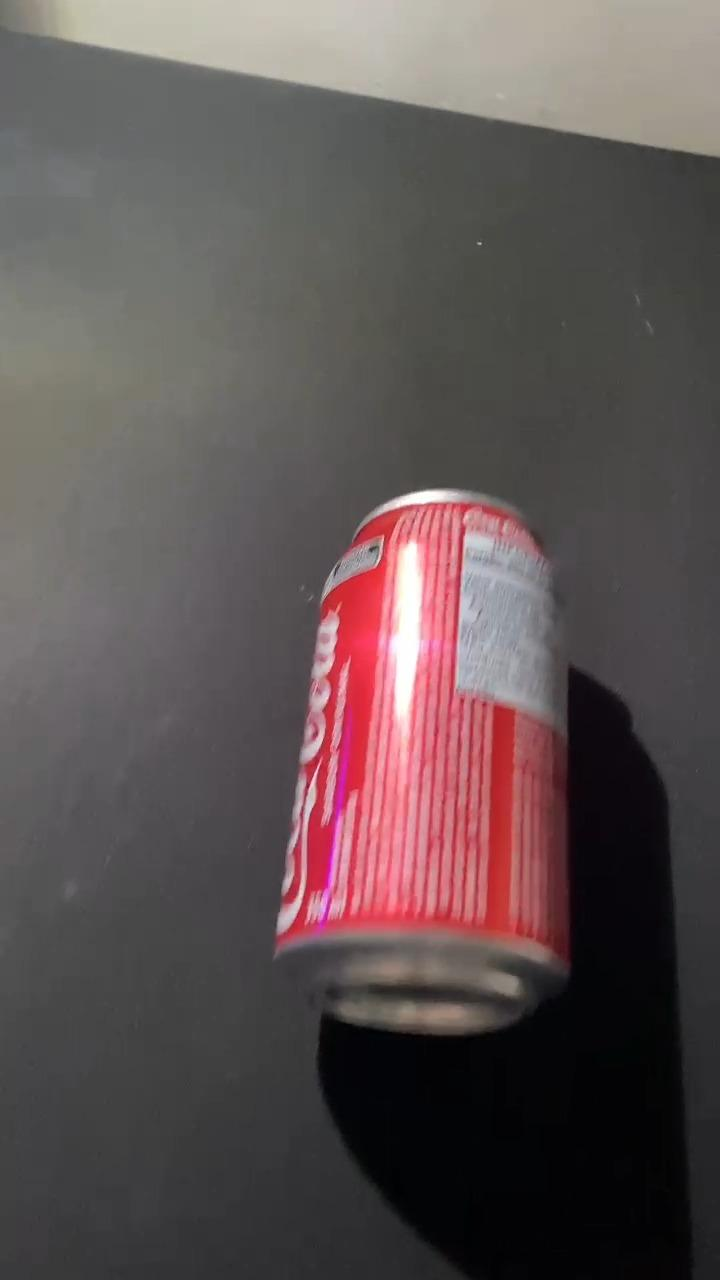coke: (271, 489, 578, 1035)
